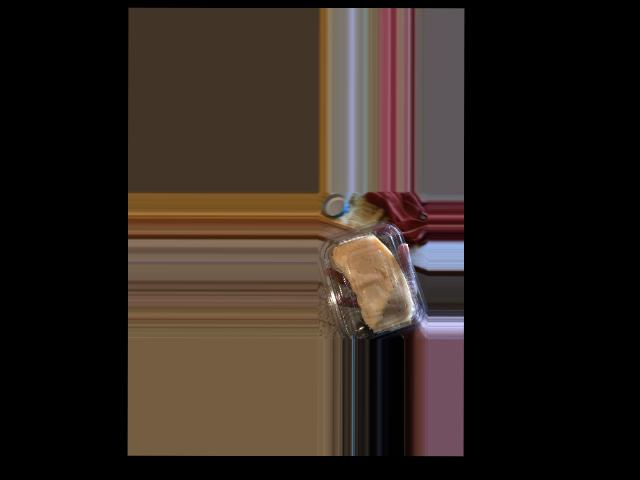cheese: (322, 219, 420, 340)
